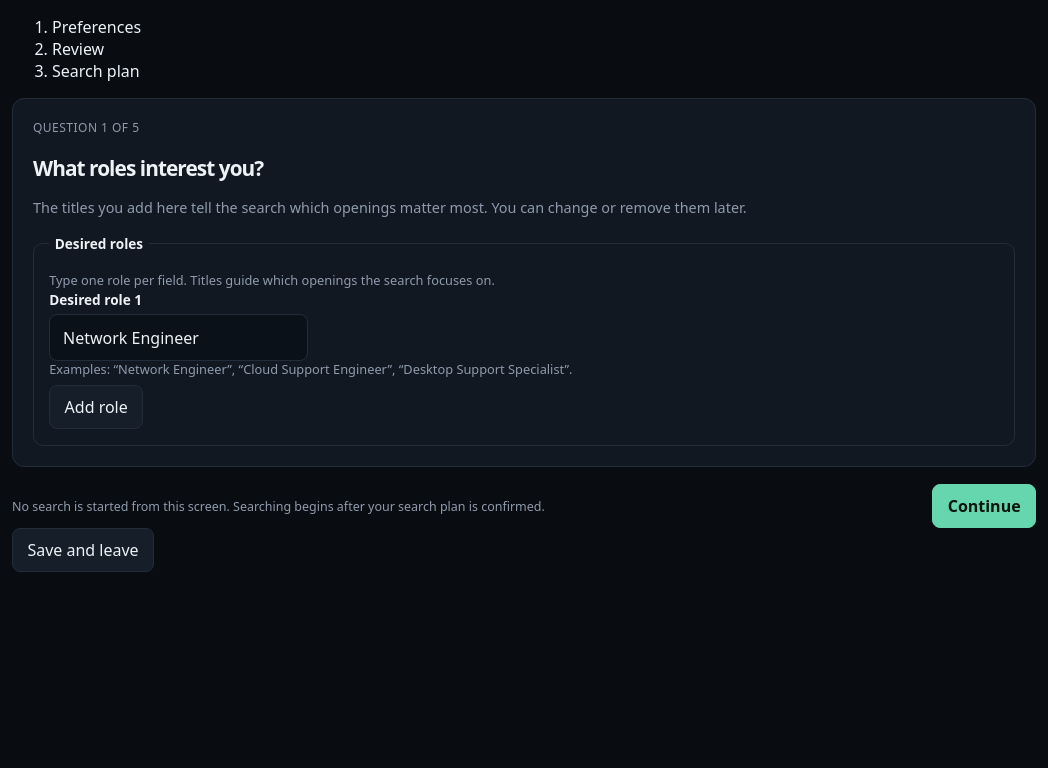
OnboardingPage — transitions persist the destination › does not advance when the destination save fails
Click the button "Continue" at [984, 506], box [932,484,1036,528]
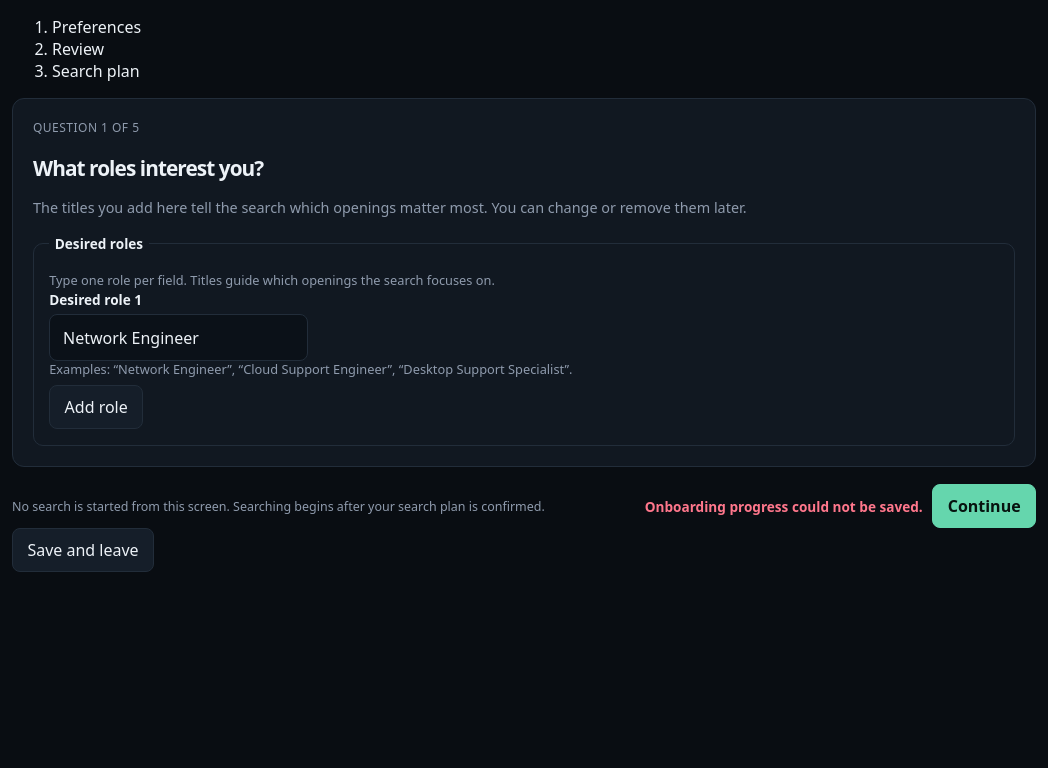
Check: the heading "What roles interest you?" is shown, box [33,154,263,182]
Check: the text "Onboarding progress could not be saved." is shown, box [645,497,923,516]
